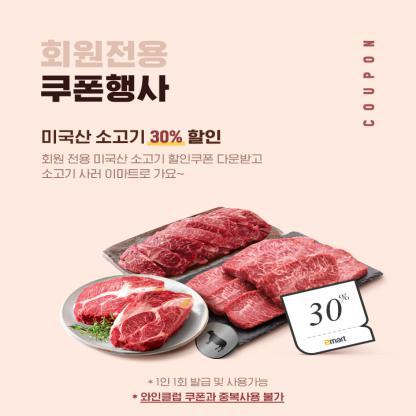beef: (193, 233, 280, 327), (124, 204, 252, 266), (79, 274, 188, 346)
